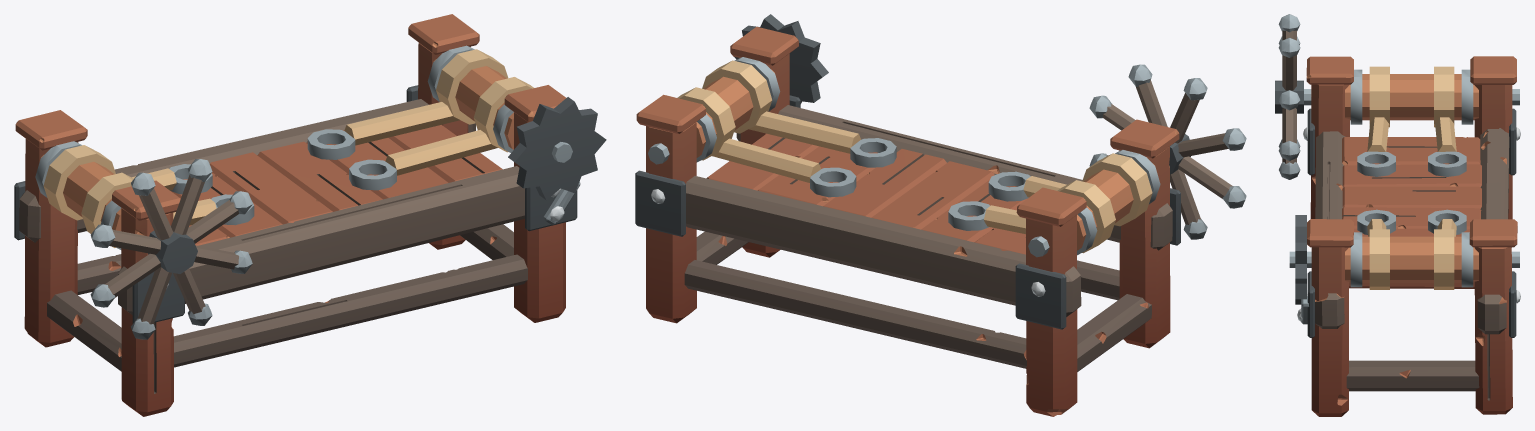
Rendered from torture_rack.glb.
3 views of the same model, side by side, from view 1: azimuth 30°, elevation 25°; view 2: azimuth 150°, elevation 25°; view 3: azimuth 270°, elevation 25° (orthographic). The views are drawn at different scales.
Parts seen in each view (by area): view 1: torture_rack; view 2: torture_rack; view 3: torture_rack.
Part boxes in pixels (x1,y1,x2,y2): torture_rack: [14, 14, 606, 416]; torture_rack: [635, 14, 1246, 416]; torture_rack: [1275, 14, 1520, 416].
Bounding box in the file's own units: 3.49 × 1.69 × 1.69.
Materials: 1 (1 with a texture image).
